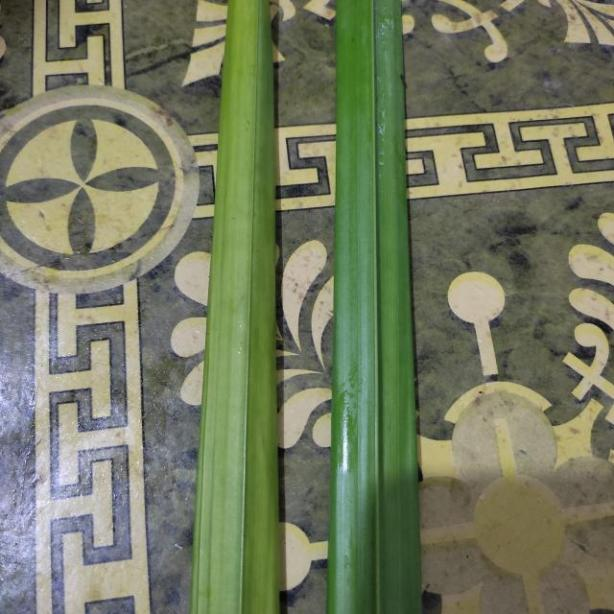Healthy: (322, 0, 437, 613)
nitrogen: (165, 0, 302, 613)
